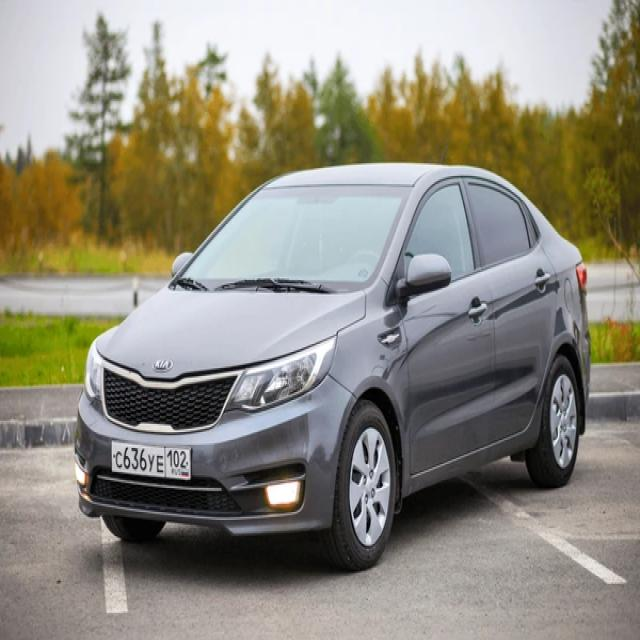kia: (151, 357, 174, 372)
